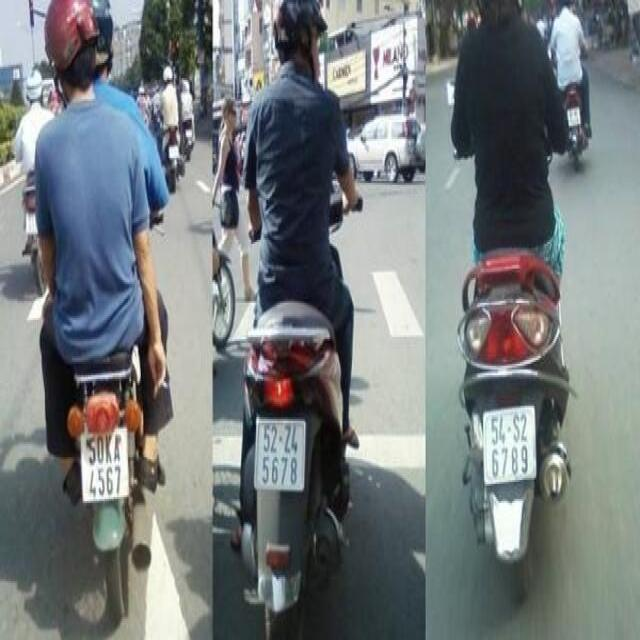motorcycle: (453, 223, 574, 588), (231, 303, 352, 632), (64, 356, 143, 572), (556, 82, 589, 173)
plate: (473, 400, 539, 490), (77, 417, 134, 511), (252, 410, 308, 499), (564, 103, 585, 143)
